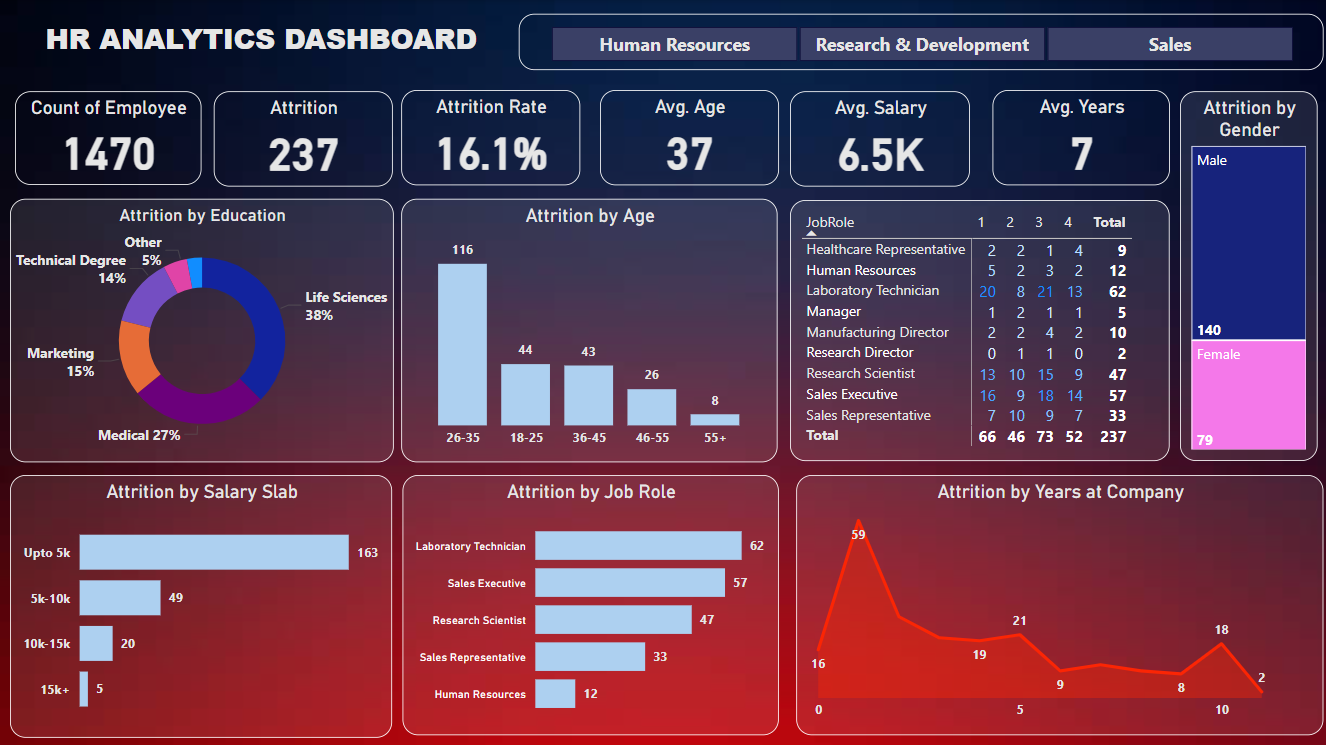

Layout of this report page (visuals, bound fields, positions):
{"tool":"powerbi","page":{"name":"Page 1","canvas":[1280,720],"ordinal":0},"visuals":[{"type":"card","title":"Count of Employee","fields":{"Values":["CountNonNull(HR_Analytics.EmpID)"]},"box":[14.5,88.1,179.8,90.5],"z":0},{"type":"card","title":"Attrition","fields":{"Values":["Sum(HR_Analytics.Attritioncount)"]},"box":[206.3,88.1,172.5,91.7],"z":1},{"type":"card","title":"Avg. Age","fields":{"Values":["Avg(HR_Analytics.Age)"]},"box":[579.1,86.9,172.5,91.7],"z":2},{"type":"card","title":"Attrition Rate","fields":{"Values":["HR_Analytics.AttritionRate"]},"box":[387.3,86.9,172.5,91.7],"z":3},{"type":"card","title":"Avg. Years","fields":{"Values":["Avg(HR_Analytics.YearsAtCompany)"]},"box":[957.9,86.9,171.3,91.7],"z":4},{"type":"card","title":"Avg. Salary","fields":{"Values":["Avg(HR_Analytics.MonthlyIncome)"]},"box":[762.5,88.1,173.7,91.7],"z":5},{"type":"donutChart","title":"Attrition by Education","fields":{"Category":["HR_Analytics.EducationField"],"Y":["Sum(HR_Analytics.Attritioncount)"]},"box":[9.7,191.8,370.4,254.6],"z":6},{"type":"columnChart","title":"Attrition by Age","fields":{"Category":["HR_Analytics.AgeGroup"],"Y":["Sum(HR_Analytics.Attritioncount)"]},"box":[387.3,191.8,363.1,254.6],"z":8},{"type":"pivotTable","fields":{"Rows":["HR_Analytics.JobRole"],"Columns":["HR_Analytics.JobSatisfaction"],"Values":["Sum(HR_Analytics.Attritioncount)"]},"box":[762.5,193,366.8,252.1],"z":9},{"type":"barChart","title":"Attrition by Salary Slab","fields":{"Y":["Sum(HR_Analytics.Attritioncount)"],"Category":["HR_Analytics.SalarySlab"]},"box":[9.7,458.4,369.2,253.4],"z":10},{"type":"barChart","title":"Attrition by Job Role","fields":{"Y":["Sum(HR_Analytics.Attritioncount)"],"Category":["HR_Analytics.JobRole"]},"box":[388.5,458.4,363.1,250.9],"z":11},{"type":"areaChart","title":"Attrition by Years at Company","fields":{"Y":["Sum(HR_Analytics.Attritioncount)"],"Category":["HR_Analytics.YearsAtCompany"]},"box":[768.5,458.4,509.1,250.9],"z":12},{"type":"treemap","title":"Attrition by Gender","fields":{"Group":["HR_Analytics.Gender"],"Values":["Sum(HR_Analytics.Attritioncount)"]},"box":[1138.9,88.1,132.7,357.1],"z":13},{"type":"slicer","fields":{"Values":["HR_Analytics.Department"]},"box":[500.7,13.3,776.9,54.3],"z":14},{"type":"textbox","box":[9.7,13.3,464.5,54.3],"z":15}]}

Visuals, with their boxes in screenshot pixels (x1, y1, x2, y2), scaled from the page's 1280x720 canvas onto the 1326x745 screenshot:
"Count of Employee" card: [x1=15, y1=91, x2=201, y2=185]
"Attrition" card: [x1=214, y1=91, x2=392, y2=186]
"Avg. Age" card: [x1=600, y1=90, x2=779, y2=185]
"Attrition Rate" card: [x1=401, y1=90, x2=580, y2=185]
"Avg. Years" card: [x1=992, y1=90, x2=1170, y2=185]
"Avg. Salary" card: [x1=790, y1=91, x2=970, y2=186]
"Attrition by Education" donutChart: [x1=10, y1=198, x2=394, y2=462]
"Attrition by Age" columnChart: [x1=401, y1=198, x2=777, y2=462]
pivotTable - HR_Analytics.JobRole x HR_Analytics.JobSatisfaction: [x1=790, y1=200, x2=1170, y2=461]
"Attrition by Salary Slab" barChart: [x1=10, y1=474, x2=393, y2=737]
"Attrition by Job Role" barChart: [x1=402, y1=474, x2=779, y2=734]
"Attrition by Years at Company" areaChart: [x1=796, y1=474, x2=1324, y2=734]
"Attrition by Gender" treemap: [x1=1180, y1=91, x2=1317, y2=461]
slicer - HR_Analytics.Department: [x1=519, y1=14, x2=1324, y2=70]
textbox: [x1=10, y1=14, x2=491, y2=70]
